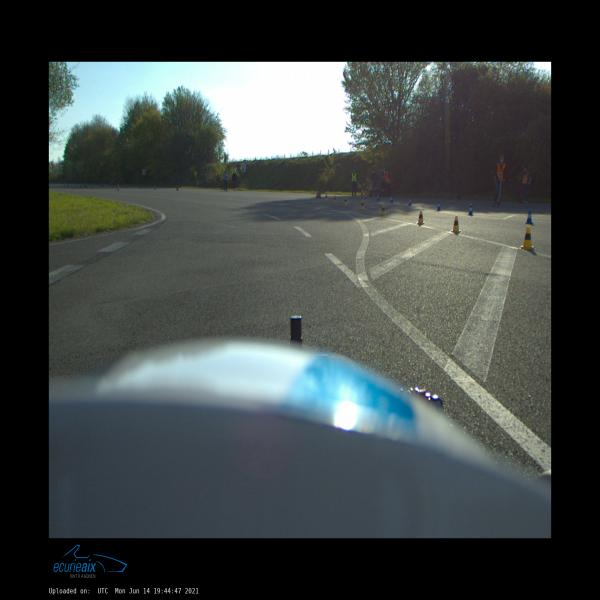blue_cone: (524, 211, 534, 224), (468, 205, 474, 215), (436, 201, 442, 211), (408, 198, 412, 205), (390, 195, 393, 203), (377, 194, 379, 200)
large_orange_cone: (364, 189, 367, 199), (318, 189, 321, 198), (361, 189, 364, 198), (316, 189, 318, 198)
yellow_cone: (520, 226, 535, 250), (450, 216, 462, 234), (416, 211, 425, 224), (380, 204, 386, 215), (360, 200, 365, 209), (333, 195, 337, 202), (344, 197, 347, 205), (325, 194, 328, 200)
